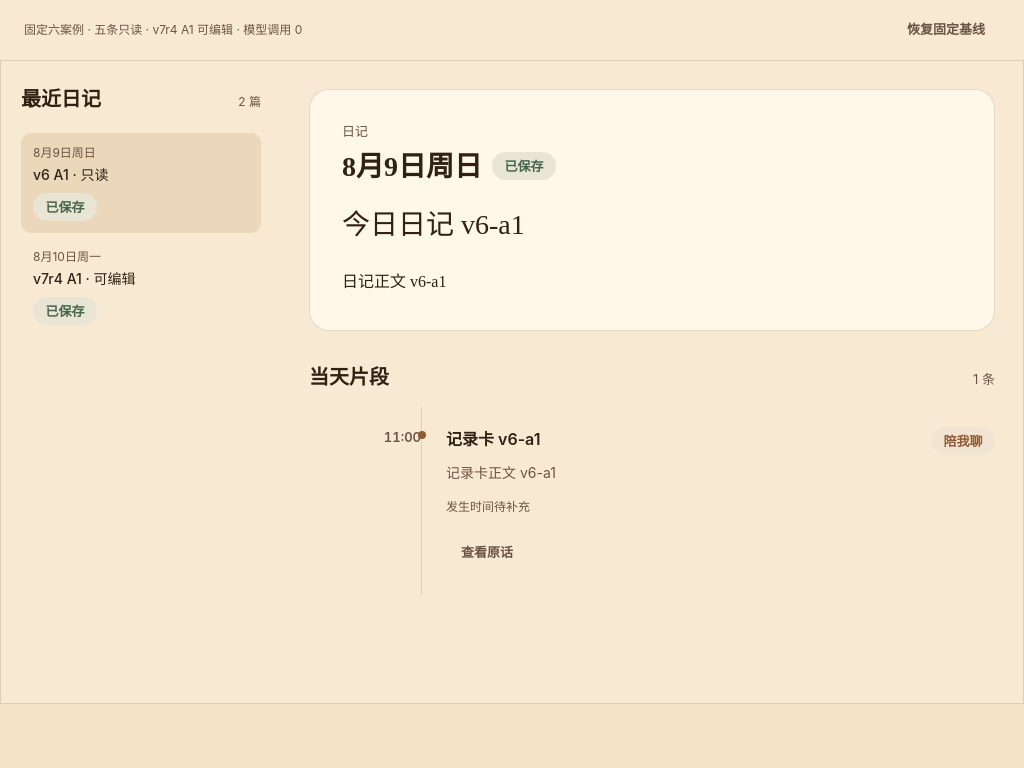
Test: Daily Light fixed-six frontend adapter › opens five read-only semantics, switches to the editable case and sends all Preview markers
Expected: the text "日记正文 v6-a1" is shown, [342, 273, 446, 290]
Expected: the button "编辑日记" is not shown
Click the link "v7r4 A1 · 可编辑": (84,287) [33, 249, 136, 325]
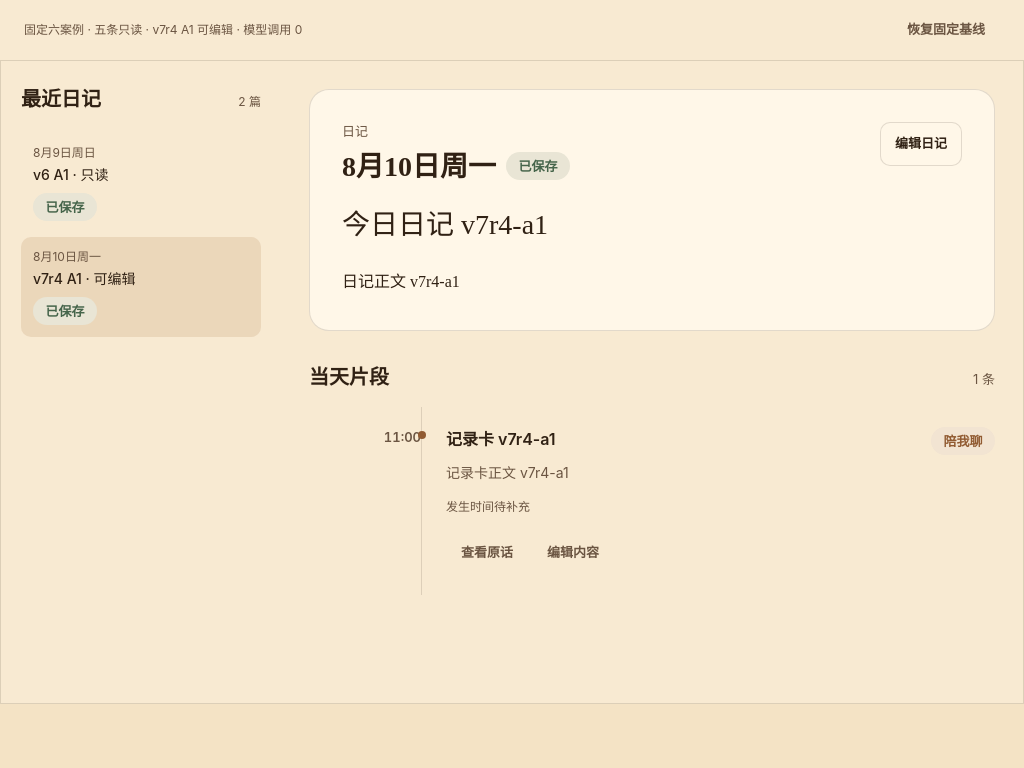
Expected: the text "固定六案例 · 五条只读 · v7r4 A1 可编辑 · 模型调用 0" is shown, [24, 22, 302, 38]
Result: the text "日记正文 v7r4-a1" is shown at [342, 273, 460, 290]
Result: the button "编辑日记" is shown at [880, 122, 962, 166]
